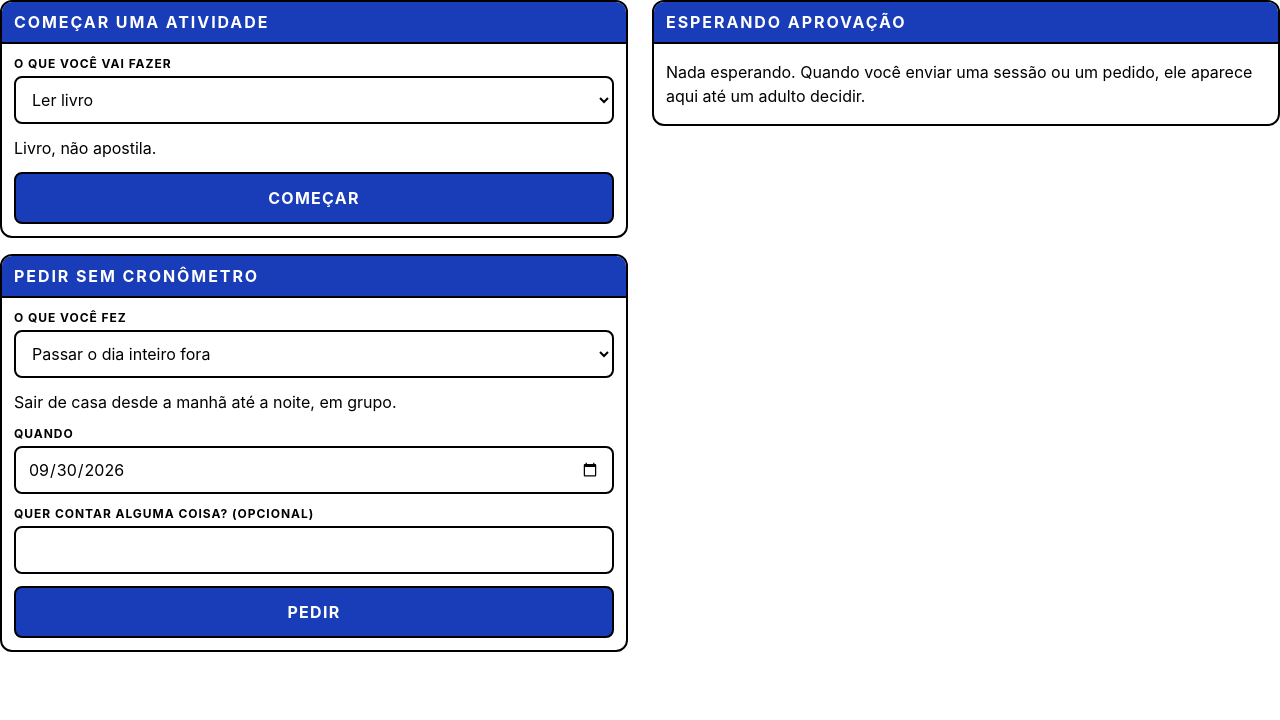
it: the request picker (#40) › follows the choice, so two neighbouring names can be told apart
Expected: the text "Sair de casa desde a manhã até a noite, em grupo." is shown, [14,392,396,412]
Select "Ir na casa de um amigo" in the dropdown labelled "O que você fez": (314, 354) [14,330,614,378]
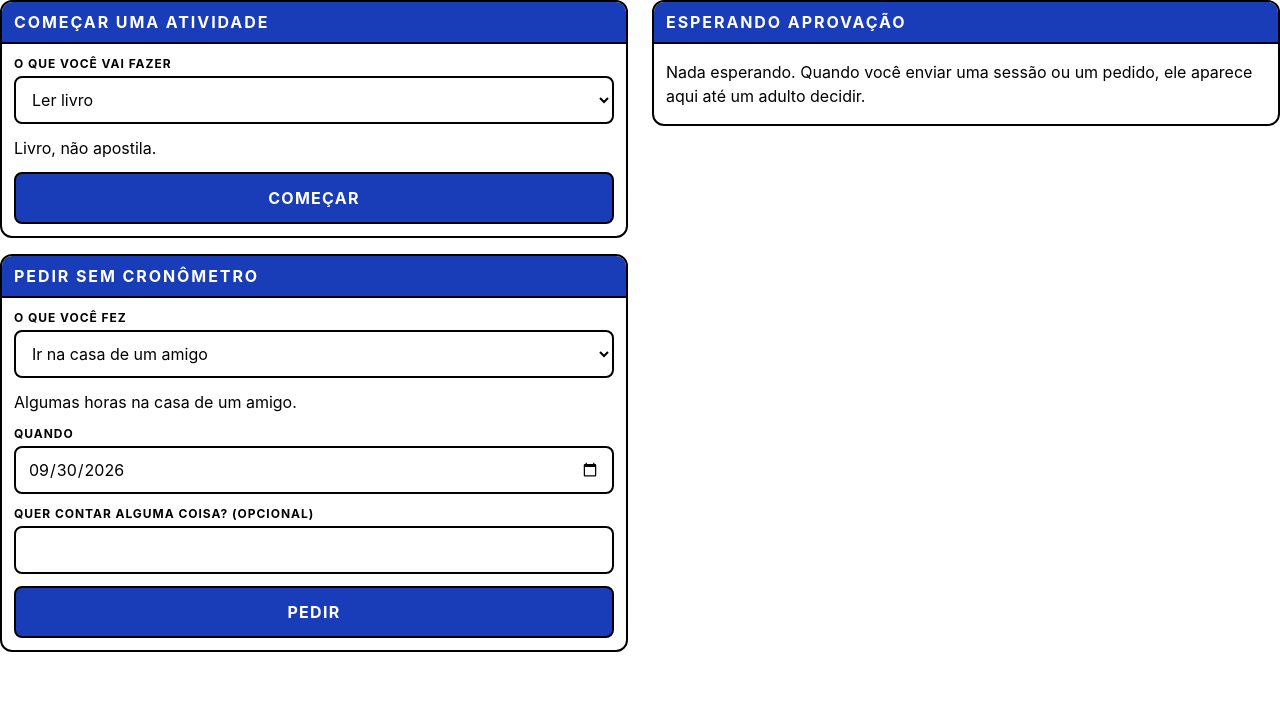
Expected: the text "Algumas horas na casa de um amigo." is shown, [14,392,297,412]
Expected: the text "Sair de casa desde a manhã até a noite, em grupo." is gone
